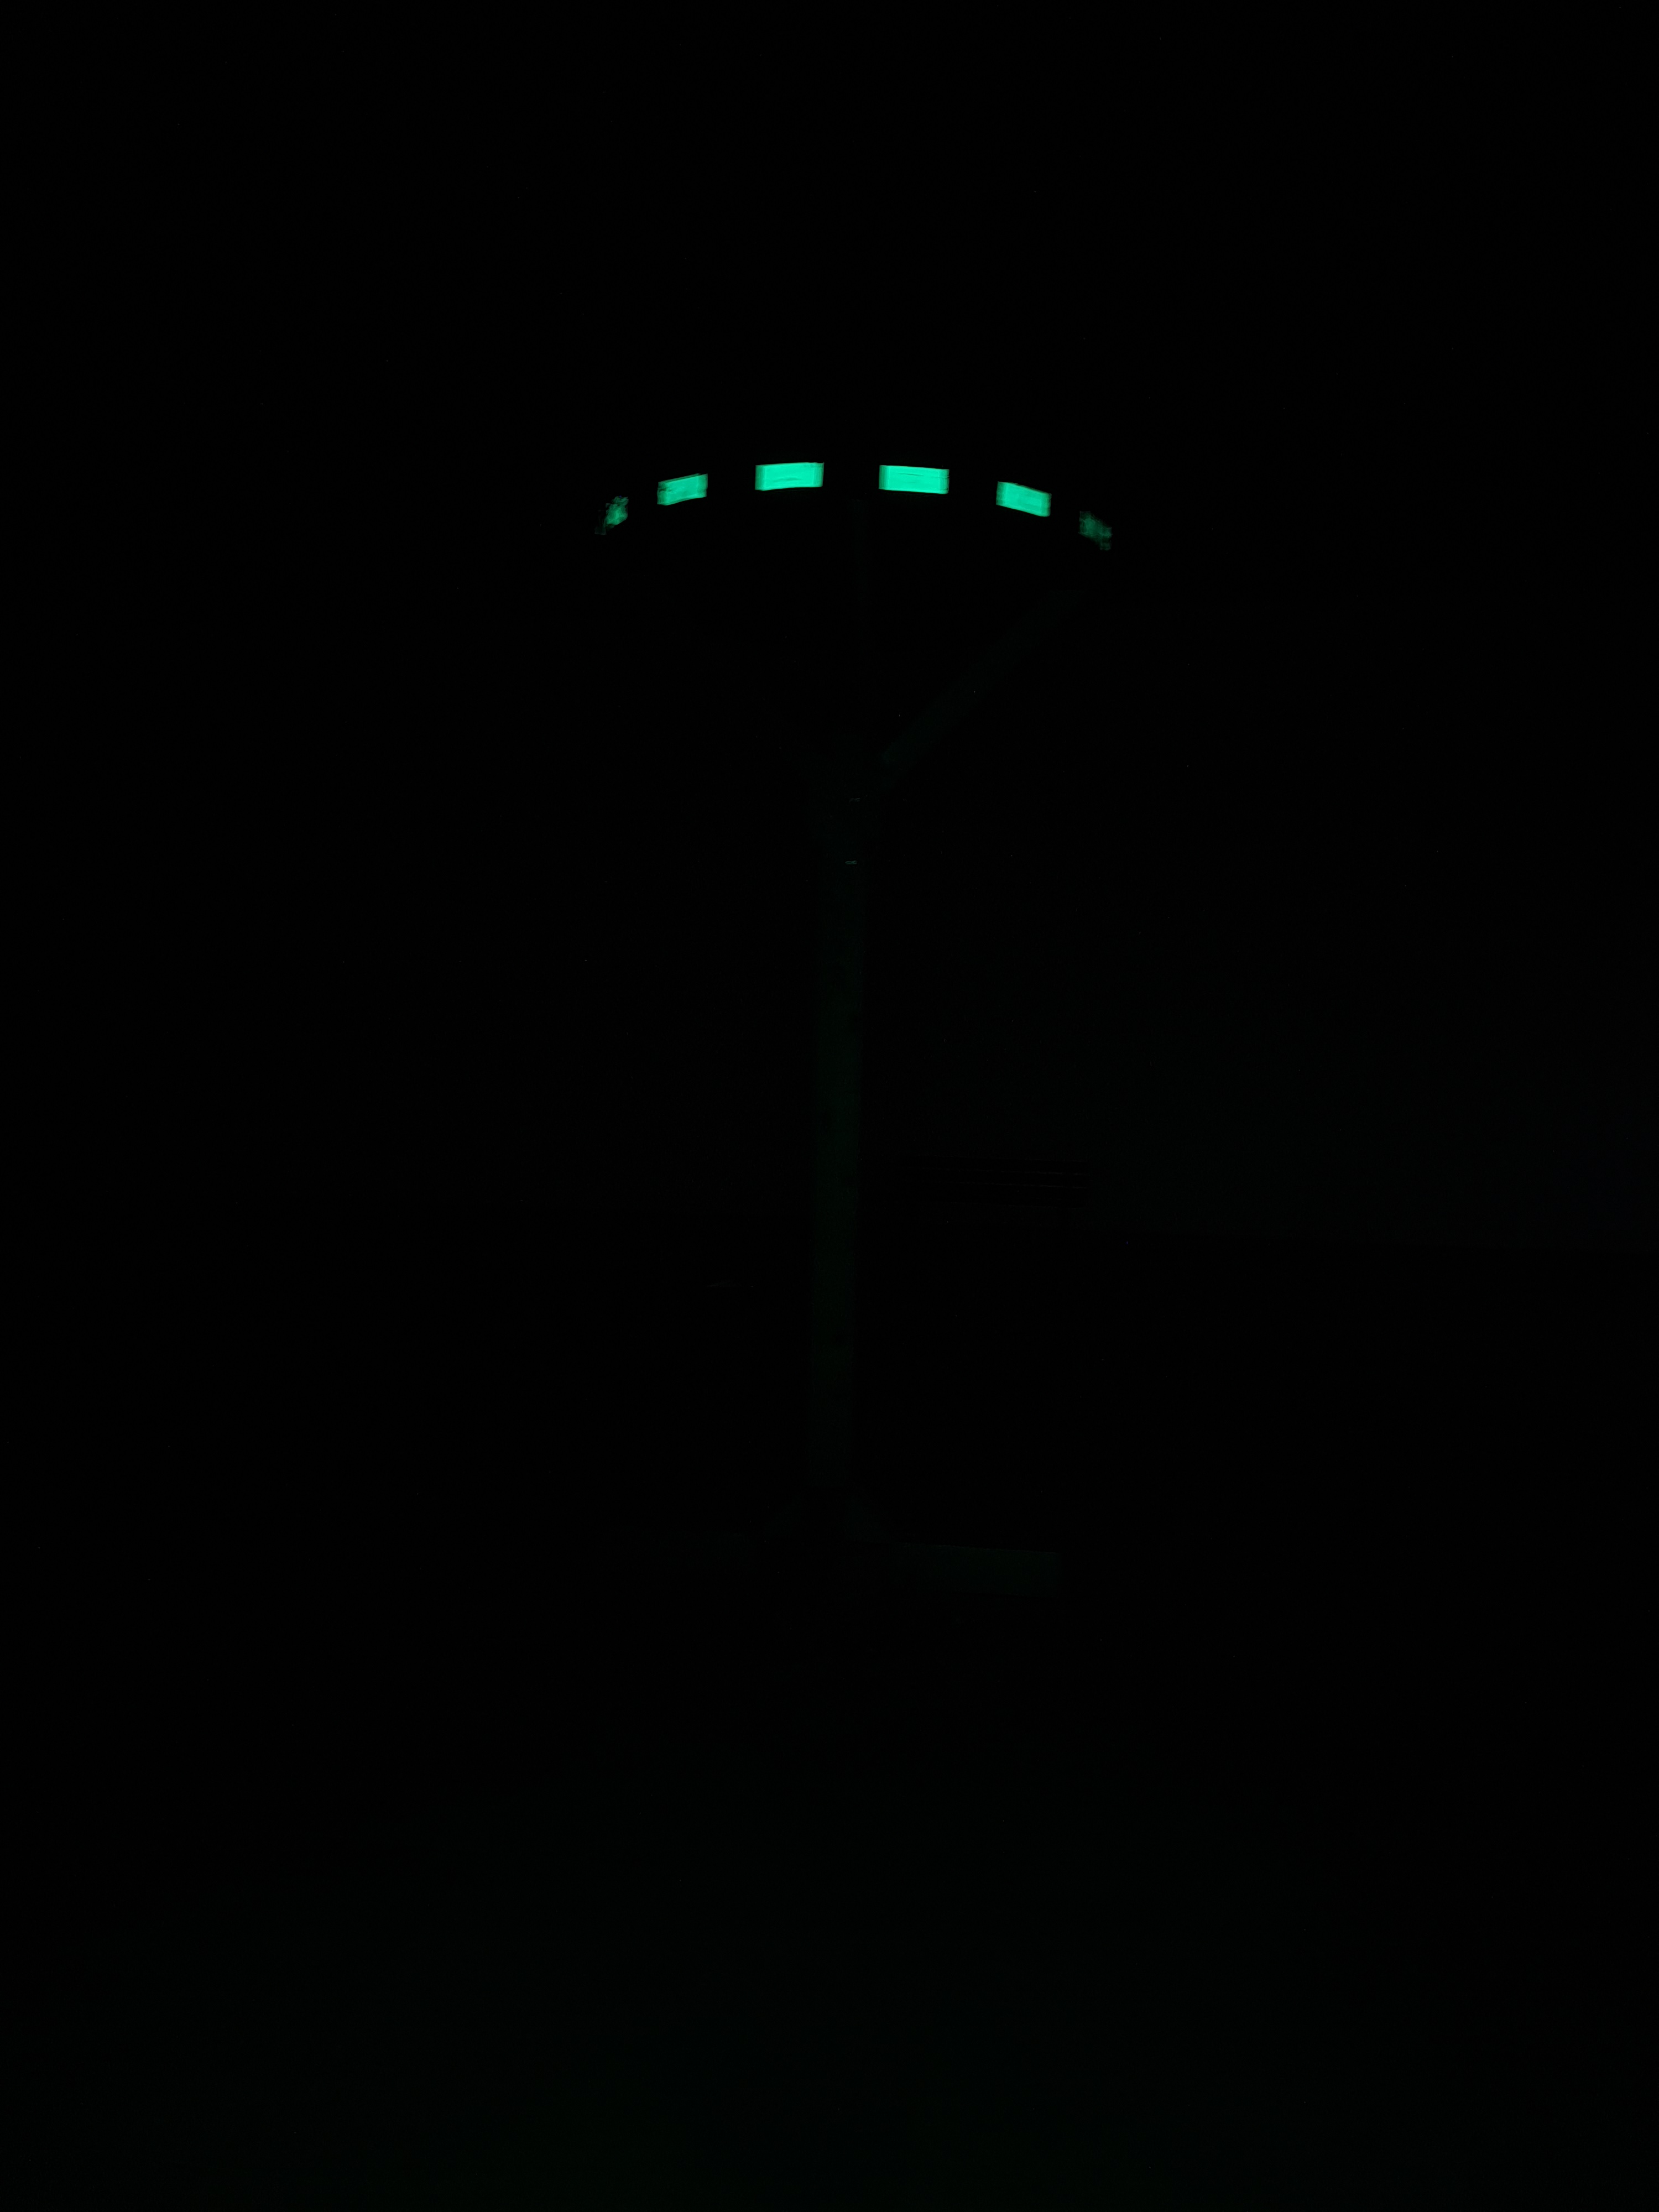hoop: (591, 460, 1119, 556)
